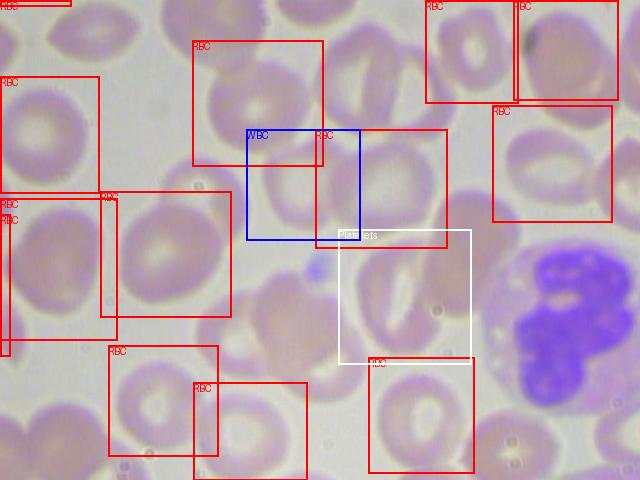Platelets: (338, 229, 471, 364)
RBC: (0, 198, 117, 340), (100, 191, 231, 317), (192, 40, 323, 166), (315, 129, 447, 248), (492, 105, 612, 222), (368, 357, 474, 473), (108, 345, 218, 456), (0, 76, 99, 193), (193, 382, 307, 480), (513, 0, 618, 100), (425, 0, 518, 103), (0, 214, 10, 356), (0, 0, 71, 6)
WBC: (246, 129, 360, 240)
